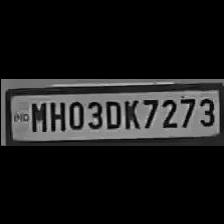0: (65, 97, 85, 129)
2: (158, 96, 176, 128)
3: (196, 93, 216, 127), (85, 96, 103, 130)
7: (138, 96, 158, 128), (176, 94, 194, 128)
D: (102, 96, 122, 130)
H: (46, 97, 64, 130)
K: (121, 95, 139, 129)
M: (28, 98, 46, 132)
